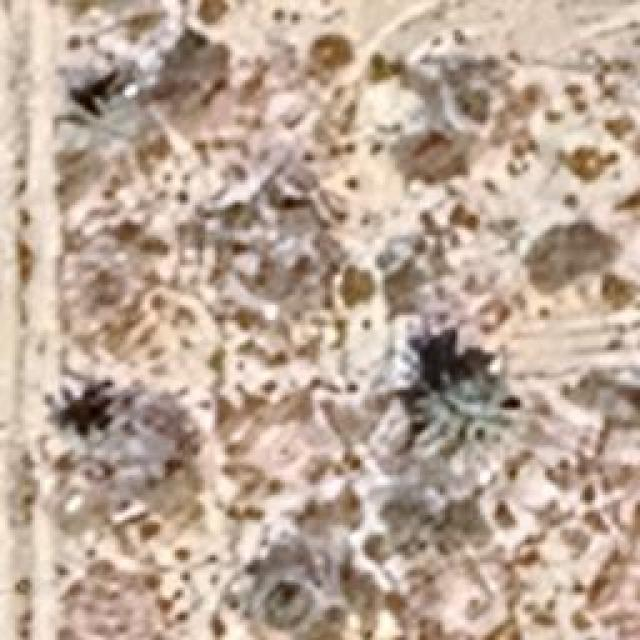PalmTree: (65, 382, 175, 492), (418, 364, 506, 462), (68, 70, 152, 155)
